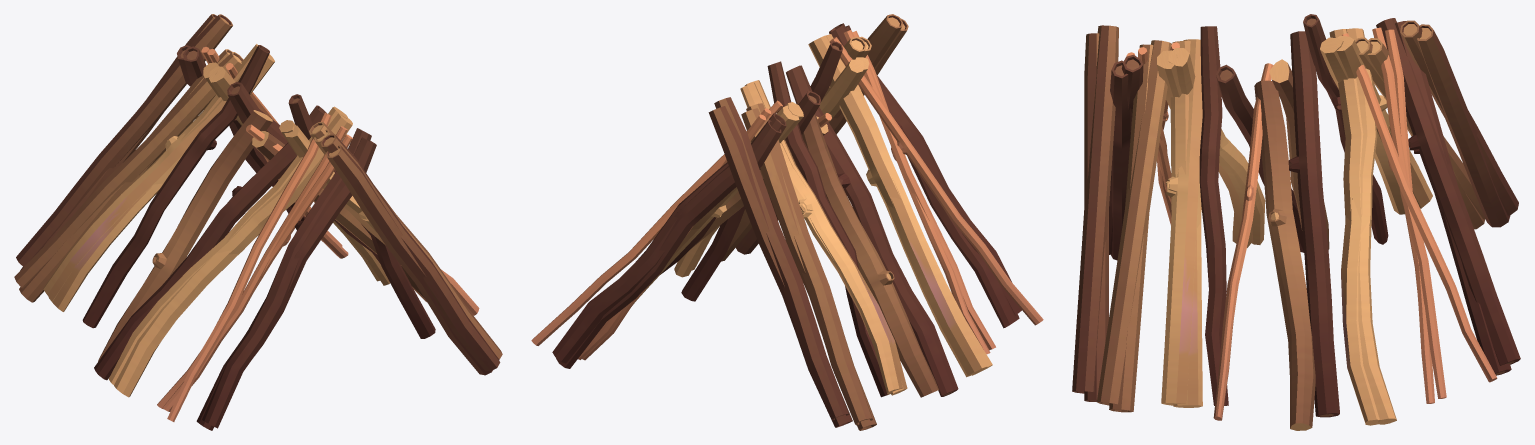
Rendered from CrowShelter.fbx.
The picture shows the model from 3 angles, left to right: view 1: azimuth 30°, elevation 25°; view 2: azimuth 150°, elevation 25°; view 3: azimuth 270°, elevation 25°; orthographic projection. The views are drawn at different scales.
Visible parts, largest first — view 1: TwigStructure1; view 2: TwigStructure1; view 3: TwigStructure1.
Part boxes in pixels (left/top/right/bottom): TwigStructure1: left=14, top=14, right=502, bottom=430; TwigStructure1: left=531, top=14, right=1043, bottom=430; TwigStructure1: left=1072, top=14, right=1520, bottom=430.
Size of the model in its own units: 144 by 115 by 142.
